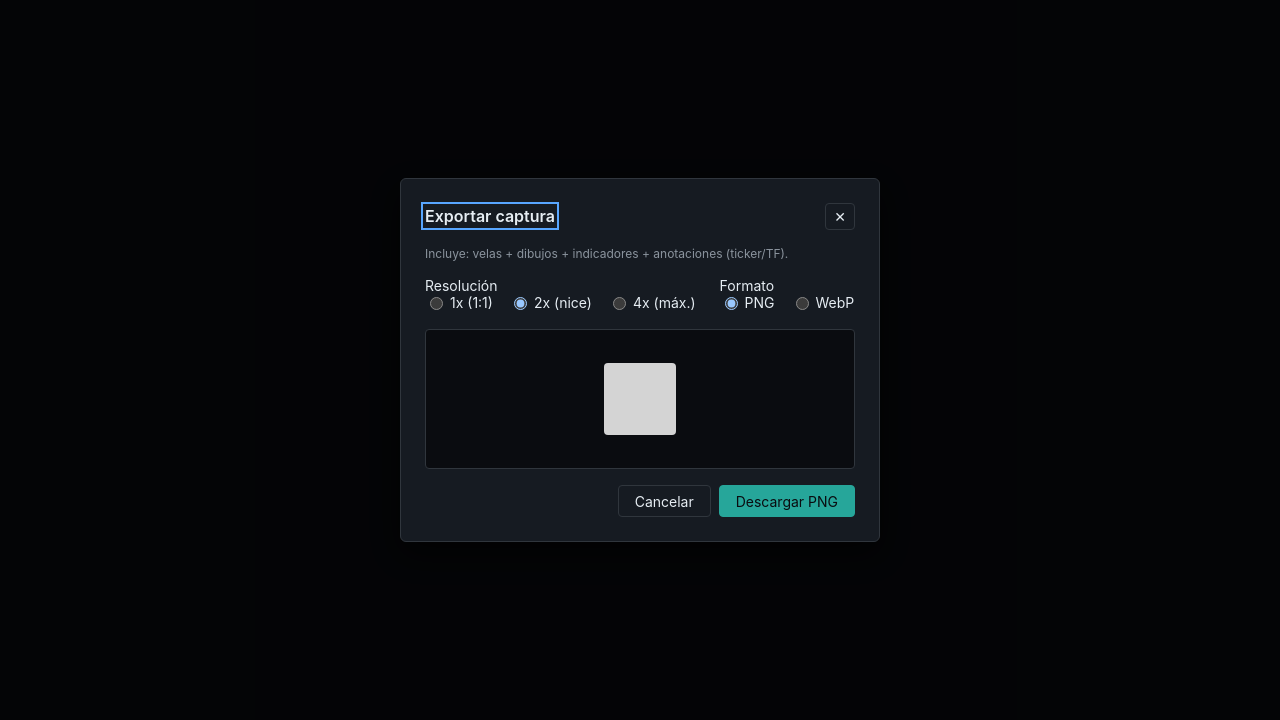
Test case: ExportModal (TASK-UI-060) › shows an error state with a retry action when generation fails
Click the button "Descargar PNG".
click(787, 501)  # box [719,485,855,517]
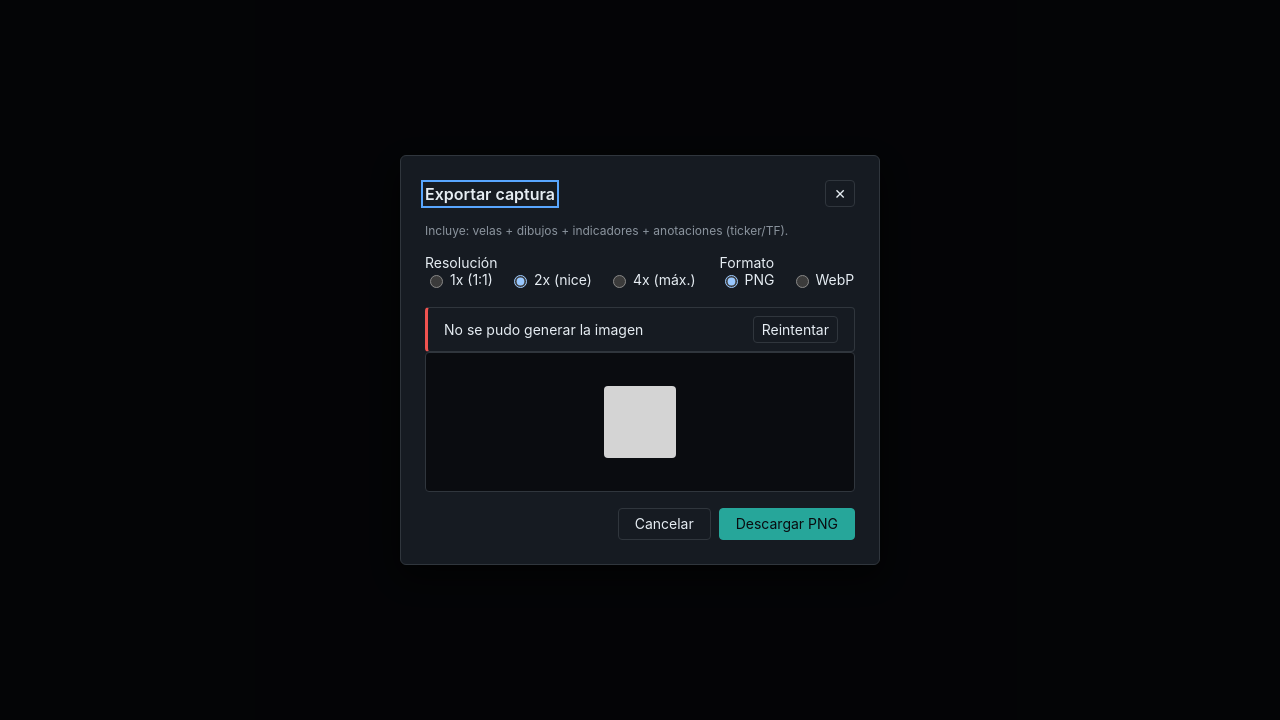
Check: the text "No se pudo generar la imagen" is shown, box [444,321,643,338]
Check: the button "Reintentar" is shown, box [753,316,838,343]
